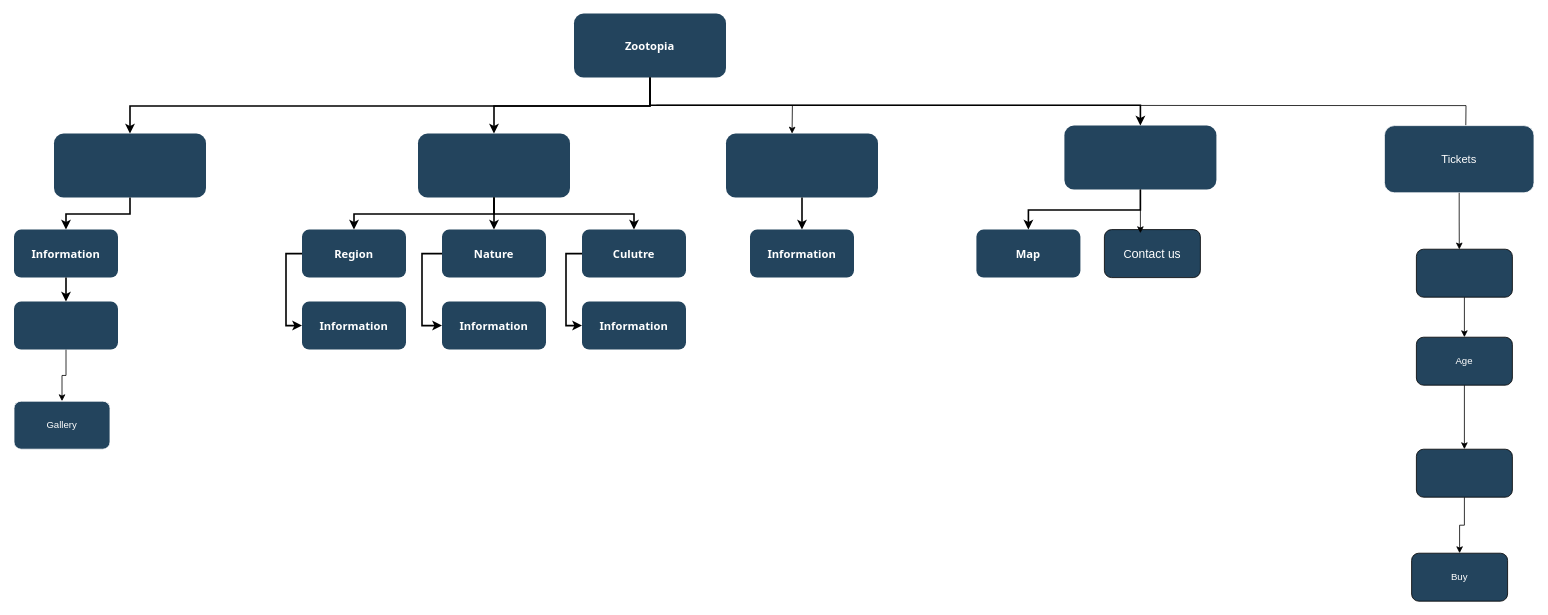
Image size: 1548x615. Some labels were removed from this diagram. The shapes that lost their labels are listed below. From the top down, each one's centre as x and y in pixels, then its label:
the point at 130,165: Home
the point at 494,165: Discover
the point at 802,165: Event
the point at 1140,157: About us
the point at 1464,272: Date
the point at 66,325: Reason to visit
the point at 1464,472: Quantity
